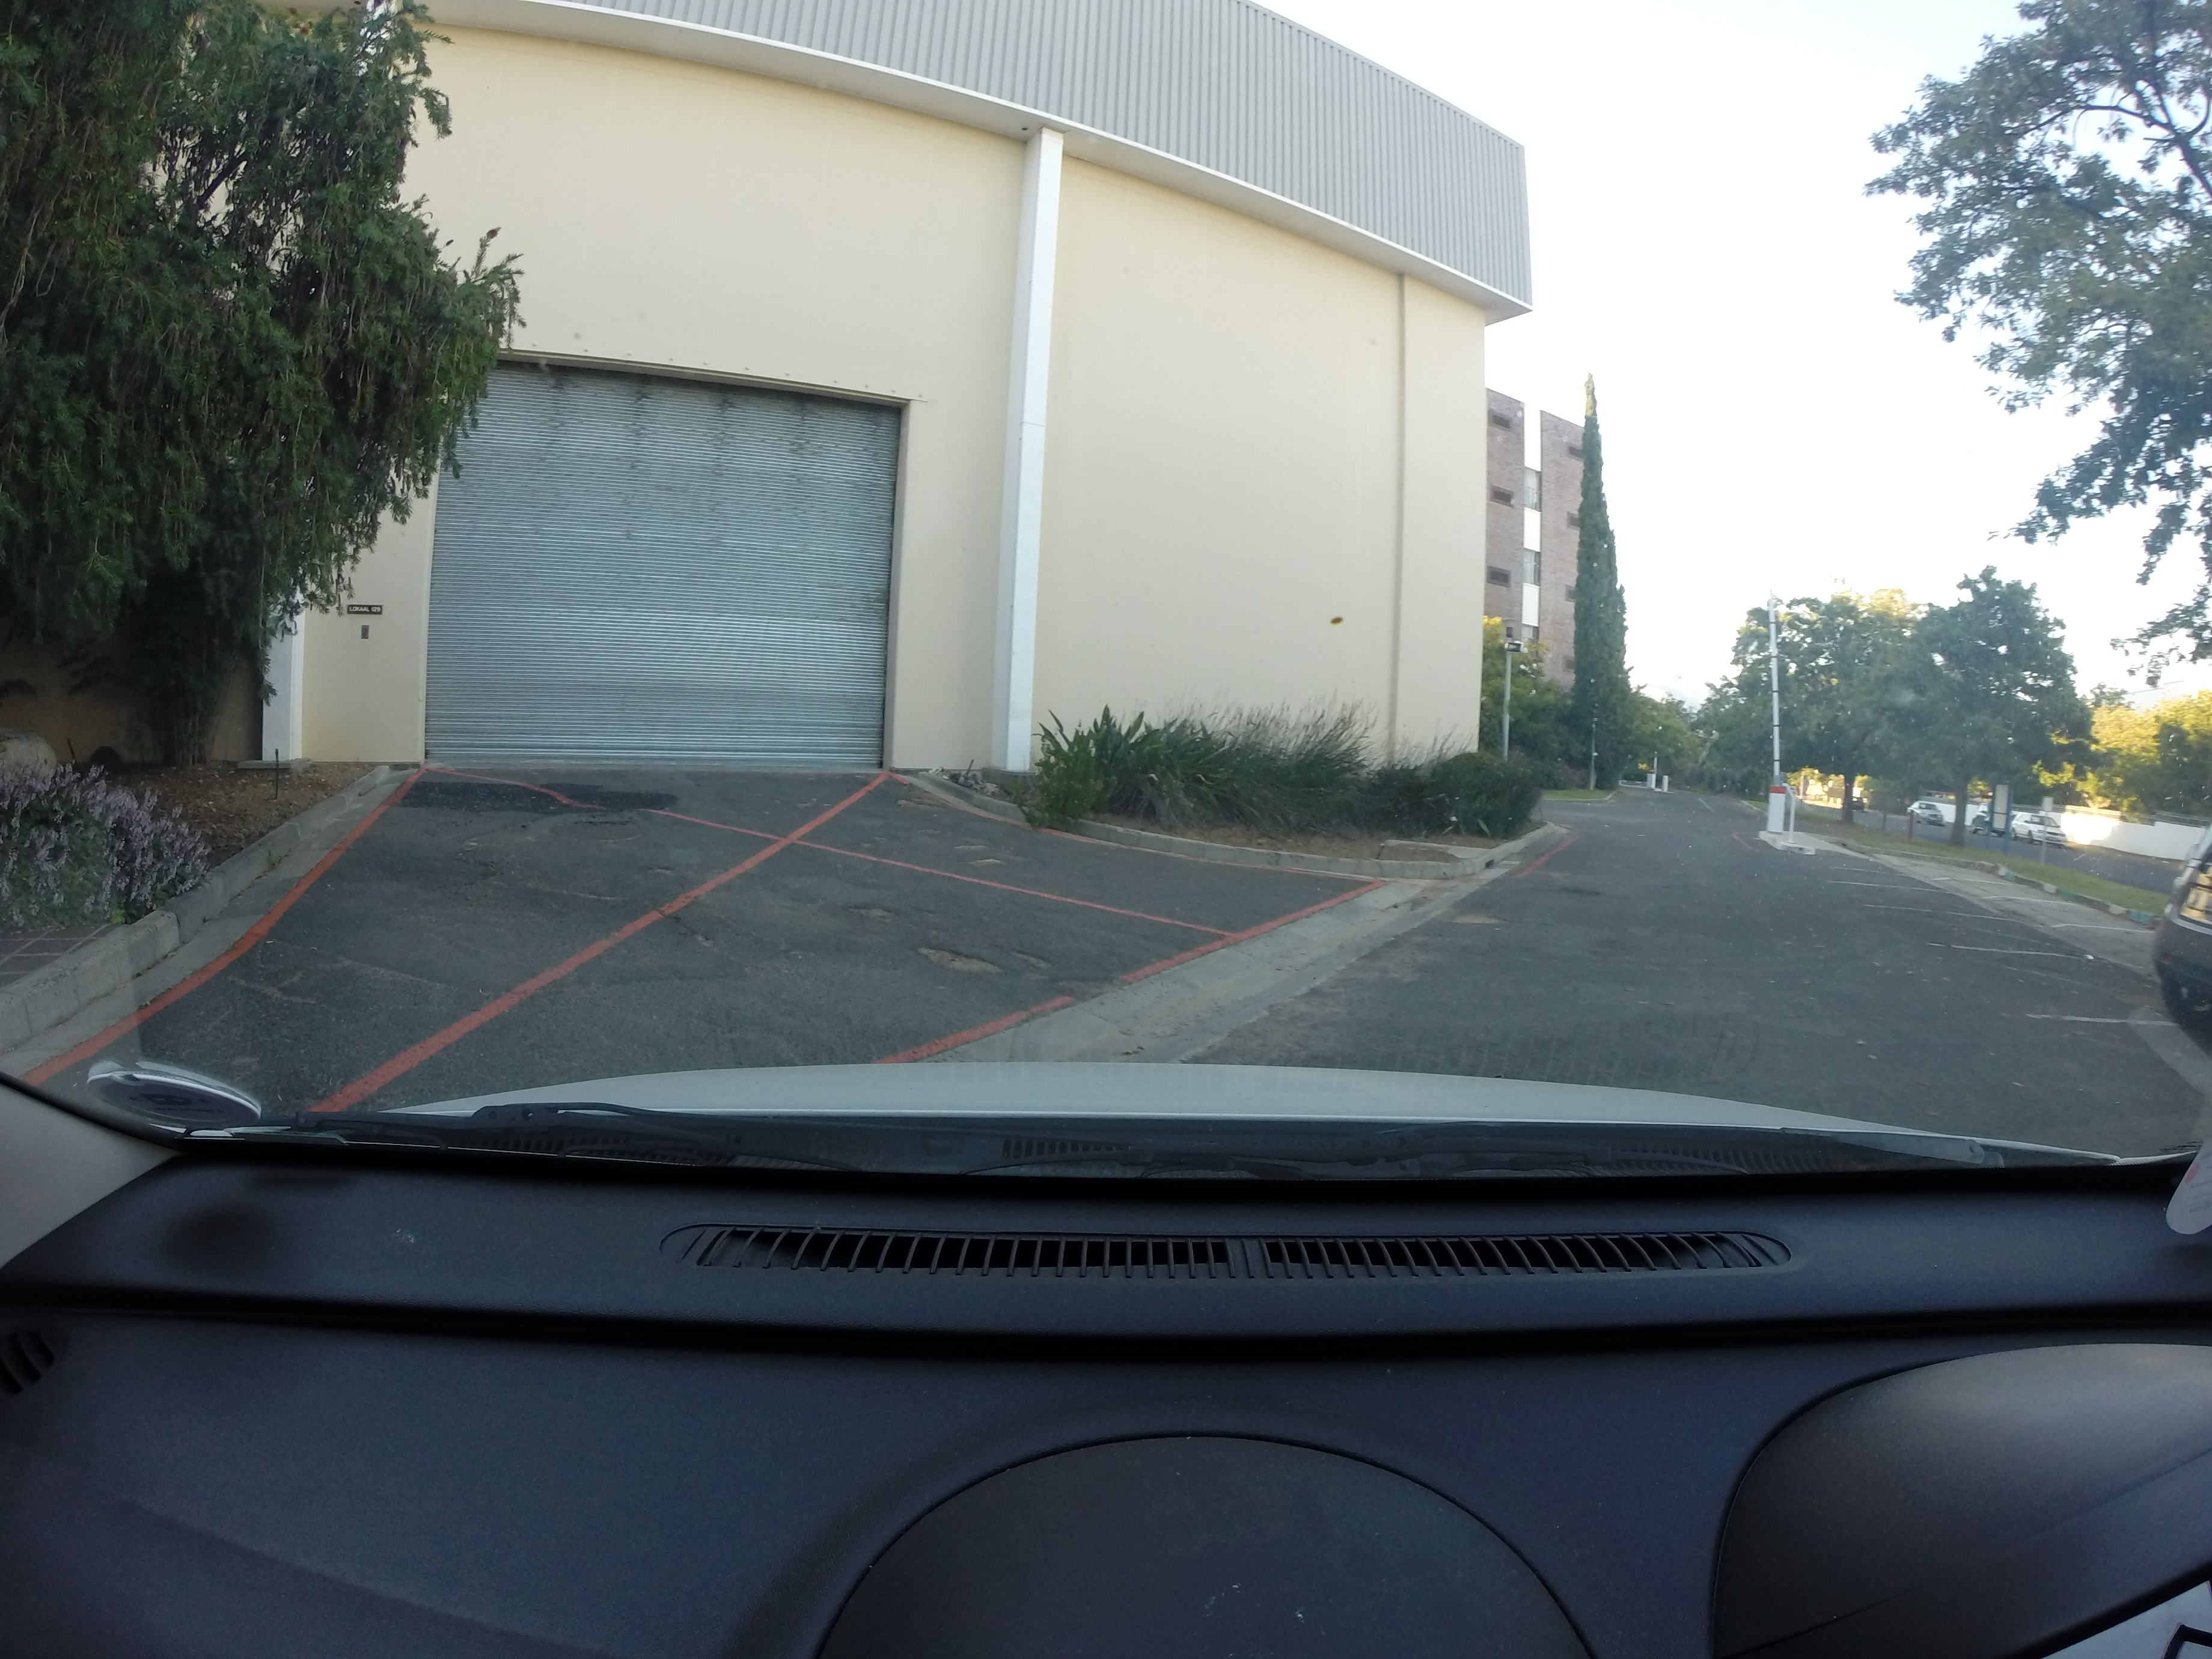pothole: (888, 925, 1008, 997), (1015, 951, 1116, 988), (948, 847, 1024, 877), (815, 903, 888, 924)
